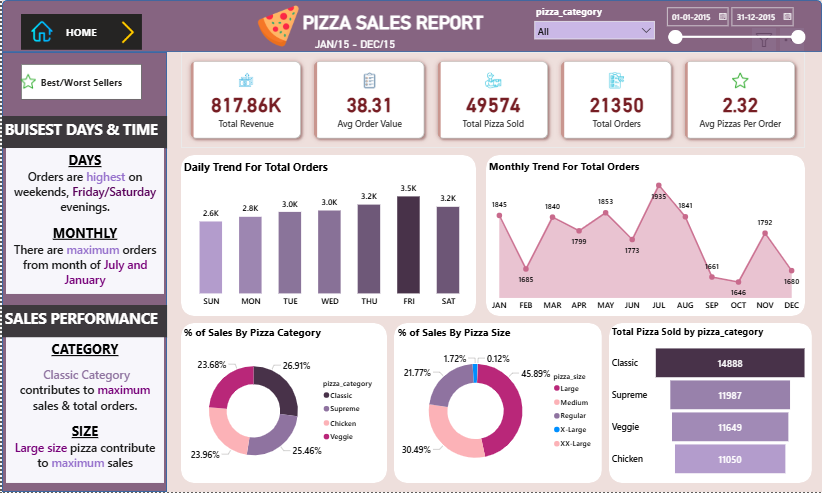

What the dashboard file says about the page in this screenshot:
{"tool":"powerbi","page":{"name":"HOME","canvas":[1500,900],"ordinal":0},"visuals":[{"type":"cardVisual","fields":{"Data":["pizza_sales.Total Revenue","pizza_sales.Avg Order Value","pizza_sales.Total Pizza Sold","pizza_sales.Total Orders","pizza_sales.Avg Pizzas Per Order"]},"box":[327.4,95.1,1141.5,175.6],"z":0},{"type":"shape","box":[0,95.1,301.8,804.9],"z":1000},{"type":"shape","box":[0,0,1500,95.1],"z":2000},{"type":"textbox","box":[545.1,16.5,380.5,62.2],"z":3000},{"type":"image","box":[444.5,3.7,122.6,87.8],"z":4000},{"type":"textbox","box":[567.1,64,182.9,53],"z":5000},{"type":"shape","box":[327.4,283.5,539.6,294.5],"z":6000},{"type":"shape","box":[885.4,283.5,583.5,294.5],"z":7000},{"type":"shape","box":[327.4,590.9,376.8,292.7],"z":8000},{"type":"shape","box":[717.1,590.9,380.5,292.7],"z":9000},{"type":"shape","box":[1110.4,590.9,371.3,292.7],"z":10000},{"type":"columnChart","title":"Daily Trend For Total Orders","fields":{"Category":["pizza_sales.Order Day"],"Y":["pizza_sales.Total Orders"]},"box":[327.4,290.9,545.1,279.9],"z":11000},{"type":"areaChart","title":"Monthly Trend For Total Orders","fields":{"Y":["pizza_sales.Total Orders"],"Category":["pizza_sales.Order Month"]},"box":[885.4,290.9,583.5,287.2],"z":12000},{"type":"donutChart","title":"% of Sales By Pizza Category","fields":{"Category":["pizza_sales.pizza_category"],"Y":["pizza_sales.Total Revenue"]},"box":[327.4,594.5,376.8,289],"z":13000},{"type":"donutChart","title":"% of Sales By Pizza Size","fields":{"Category":["pizza_sales.pizza_size"],"Y":["pizza_sales.Total Revenue"]},"box":[718.9,594.5,376.8,289],"z":14000},{"type":"funnel","fields":{"Category":["pizza_sales.pizza_category"],"Y":["pizza_sales.Total Pizza Sold"]},"box":[1110.4,594.5,367.7,289],"z":15000},{"type":"textbox","box":[0,212.2,301.8,58.5],"z":16000},{"type":"textbox","box":[7.3,270.7,289,267.1],"z":17000},{"type":"textbox","box":[7.3,616.5,289,267.1],"z":18000},{"type":"textbox","box":[0,557.9,301.8,58.5],"z":19000},{"type":"slicer","fields":{"Values":["pizza_sales.pizza_category"]},"box":[964,3.7,239.6,91.5],"z":20000},{"type":"slicer","fields":{"Values":["pizza_sales.order_date"]},"box":[1203.7,3.7,274.4,87.8],"z":21000},{"type":"pageNavigator","box":[34.8,25.6,221.3,65.9],"z":22000},{"type":"pageNavigator","box":[34.8,117.1,221.3,65.9],"z":23000},{"type":"image","box":[47.6,32.9,51.2,49.4],"z":24000},{"type":"image","box":[204.9,27.4,51.2,62.2],"z":25000},{"type":"image","box":[22,129.9,51.2,38.4],"z":26000}]}

Visuals, with their boxes in screenshot pixels (x1, y1, x2, y2), scaled from the page's 1500x900 canvas onto the 822x493 screenshot:
cardVisual - pizza_sales.Total Revenue x pizza_sales.Avg Order Value: [179,52,805,148]
shape: [0,52,165,492]
shape: [0,0,821,52]
textbox: [299,9,507,43]
image: [244,2,311,50]
textbox: [311,35,411,64]
shape: [179,155,475,317]
shape: [485,155,805,317]
shape: [179,324,386,484]
shape: [393,324,601,484]
shape: [608,324,812,484]
"Daily Trend For Total Orders" columnChart: [179,159,478,313]
"Monthly Trend For Total Orders" areaChart: [485,159,805,317]
"% of Sales By Pizza Category" donutChart: [179,326,386,484]
"% of Sales By Pizza Size" donutChart: [394,326,600,484]
funnel - pizza_sales.pizza_category x pizza_sales.Total Pizza Sold: [608,326,810,484]
textbox: [0,116,165,148]
textbox: [4,148,162,295]
textbox: [4,338,162,484]
textbox: [0,306,165,338]
slicer - pizza_sales.pizza_category: [528,2,660,52]
slicer - pizza_sales.order_date: [660,2,810,50]
pageNavigator: [19,14,140,50]
pageNavigator: [19,64,140,100]
image: [26,18,54,45]
image: [112,15,140,49]
image: [12,71,40,92]
